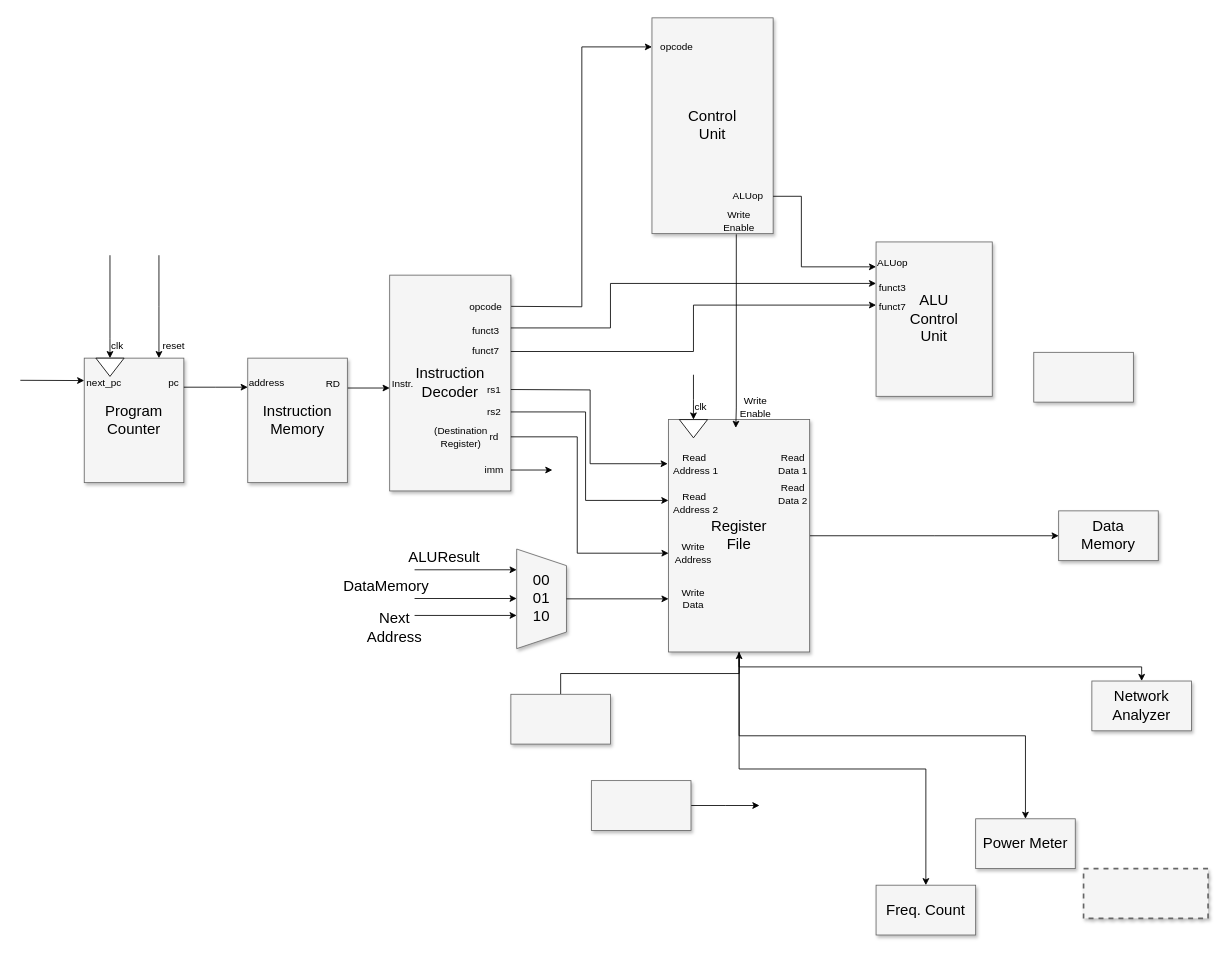
This 1228x955 diagram has some shape labels left out. The shapes that lost their labels are listed below. From the top down, each one's centre as x and y in pixels, then its label:
At point (1084, 378): "ALU".
At point (561, 720): "ARB / Mod Source".
At point (641, 806): "DC Power Supplies".
At point (1146, 894): "Software Control".
